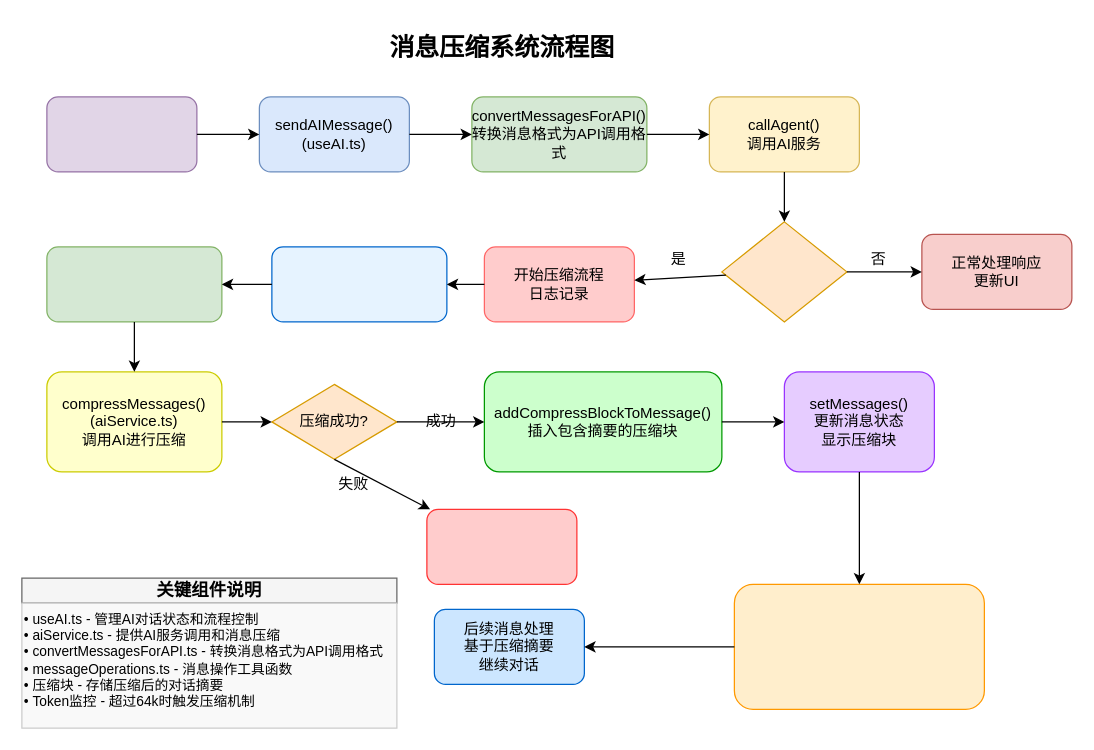
Some shapes in this 1094 by 750 pixel diagram are drawn without their labels. Each missing label, with the box of its shape:
convertMessagesForAPI 从后往前遍历时: - 遇到压缩块就停止 - 将压缩摘要作为助手消息 - 实现真正的"替换"逻辑: (733, 583, 984, 709)
convertMessagesForAPI() 转换待压缩消息格式: (46, 246, 222, 322)
Token数量 > 64k?: (721, 221, 847, 322)
用户发送消息: (46, 96, 197, 172)
获取最新messages状态 移除后6条消息: (271, 246, 447, 322)
记录错误日志 继续正常流程: (426, 508, 577, 584)
